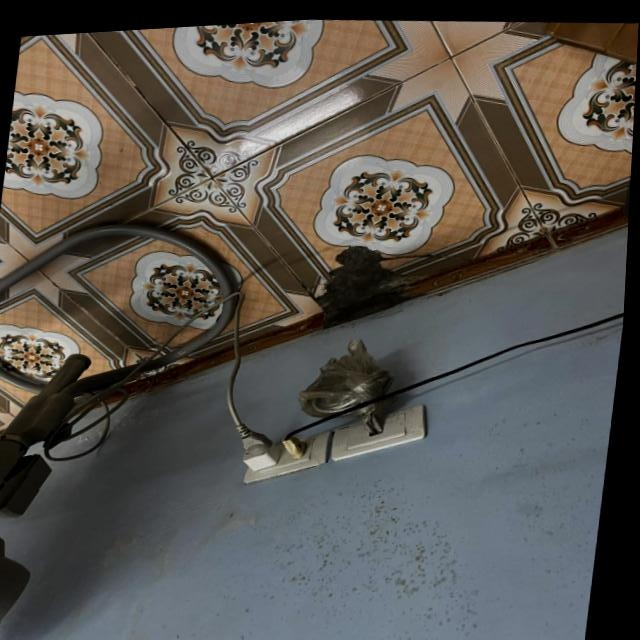outlet: (331, 397, 432, 466), (241, 422, 334, 489)
